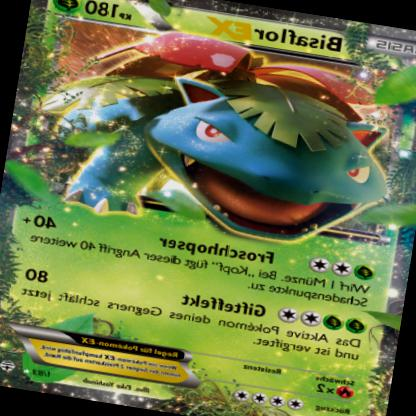Venusaur: (24, 12, 414, 265)
